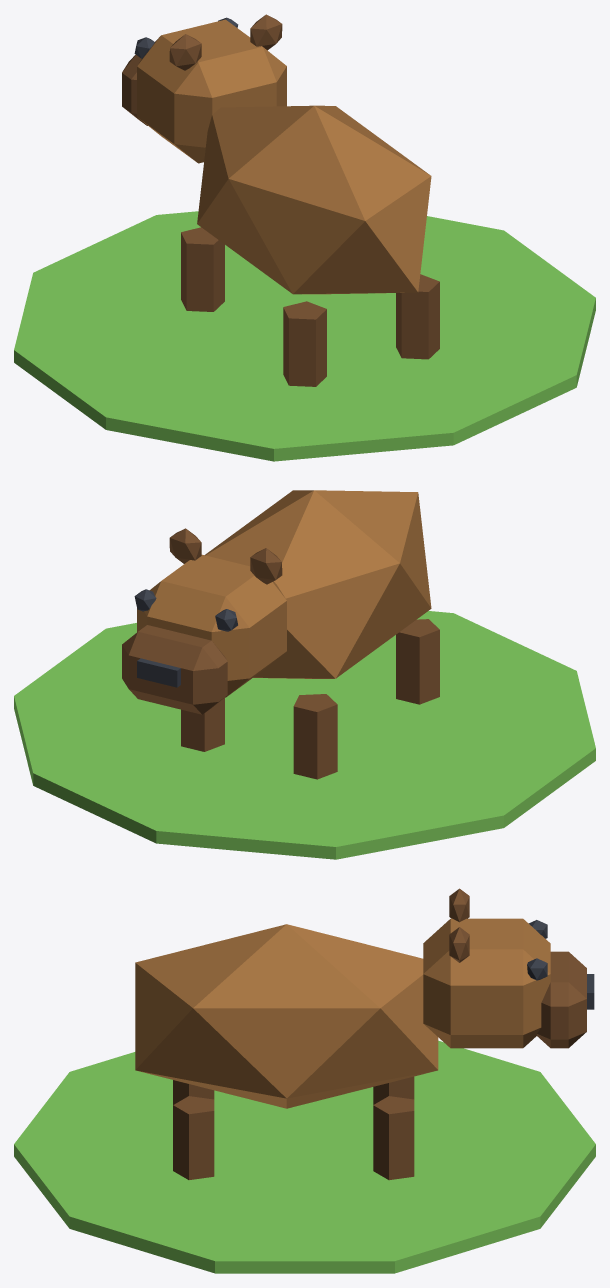
Rendered from capivara.glb.
The picture shows the model from 3 angles, top to bottom: view 1: azimuth 30°, elevation 25°; view 2: azimuth 150°, elevation 25°; view 3: azimuth 270°, elevation 25°; orthographic projection. The views are drawn at different scales.
Visible parts, largest first — view 1: corpo; view 2: corpo; view 3: corpo.
Part boxes in pixels (x1,y1,x2,y2): corpo: (14, 14, 595, 461); corpo: (14, 490, 595, 859); corpo: (14, 888, 595, 1273).
Bounding box in the file's own units: 0.6087 × 0.302 × 0.64.
